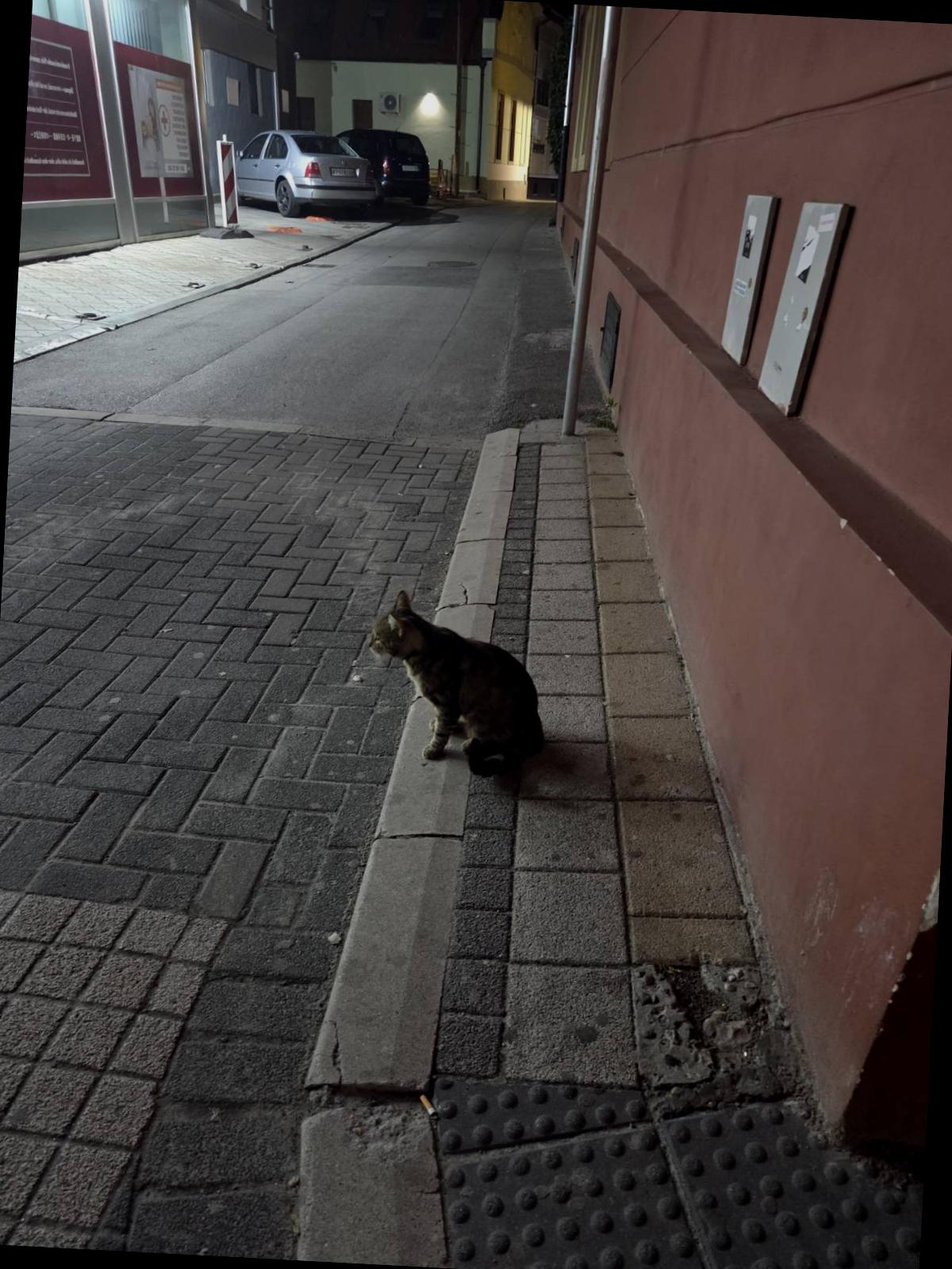macka: (360, 588, 553, 782)
